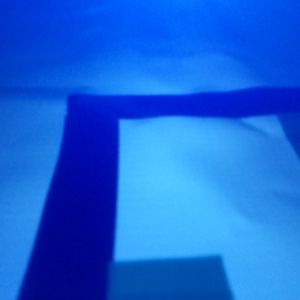top_right: (32, 256, 233, 300)
